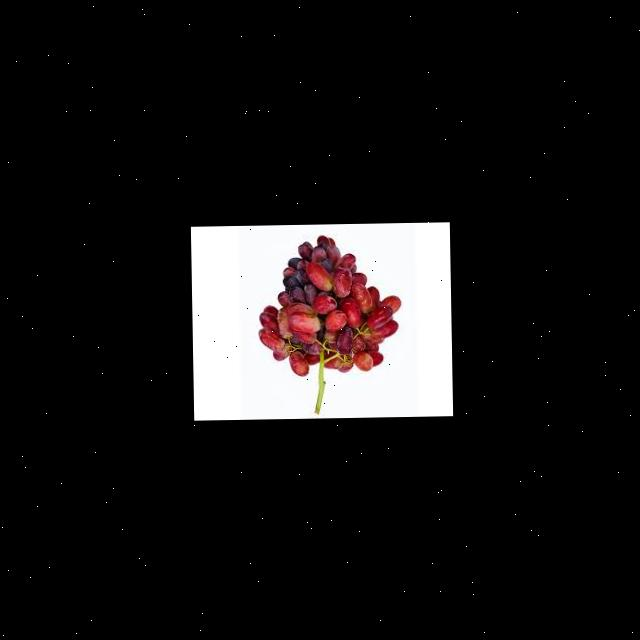grape: (252, 225, 409, 382)
